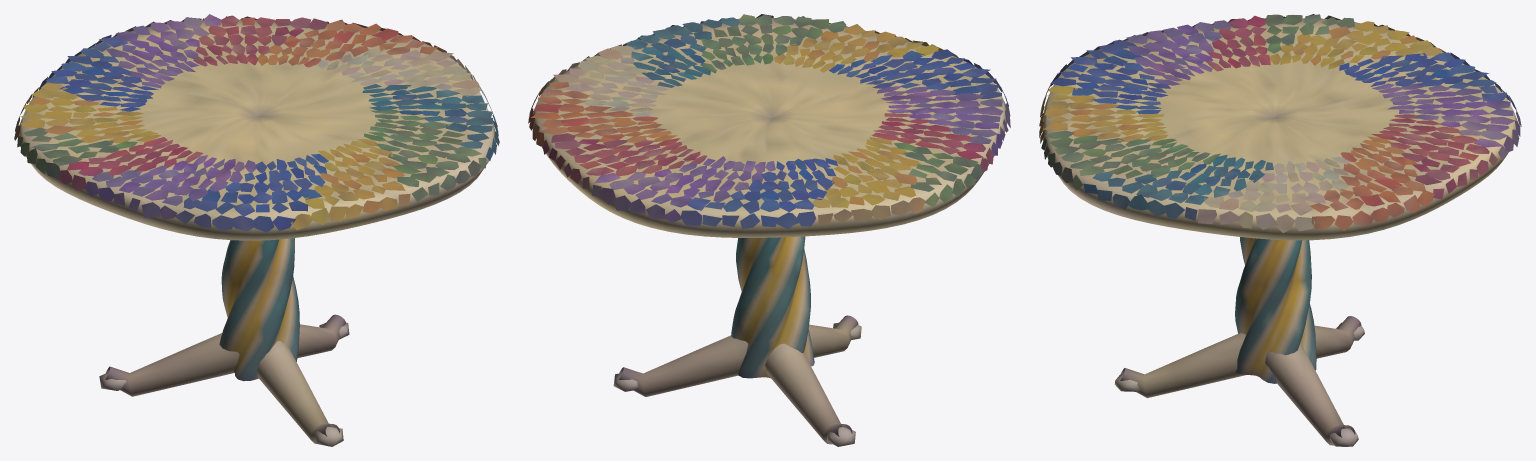
File: mozaik_masa.glb
3 views of the same model, side by side, from view 1: azimuth 30°, elevation 25°; view 2: azimuth 150°, elevation 25°; view 3: azimuth 270°, elevation 25° (orthographic).
Parts seen in each view (by area): view 1: mozaik_masa_LOD0; view 2: mozaik_masa_LOD0; view 3: mozaik_masa_LOD0.
Part boxes in pixels (box(x1,y1,x2,y2)): mozaik_masa_LOD0: box(14, 14, 499, 446); mozaik_masa_LOD0: box(528, 14, 1010, 446); mozaik_masa_LOD0: box(1039, 14, 1521, 446).
Size of what is drawn, in the model's own units: 1.21 by 0.7828 by 1.2.
